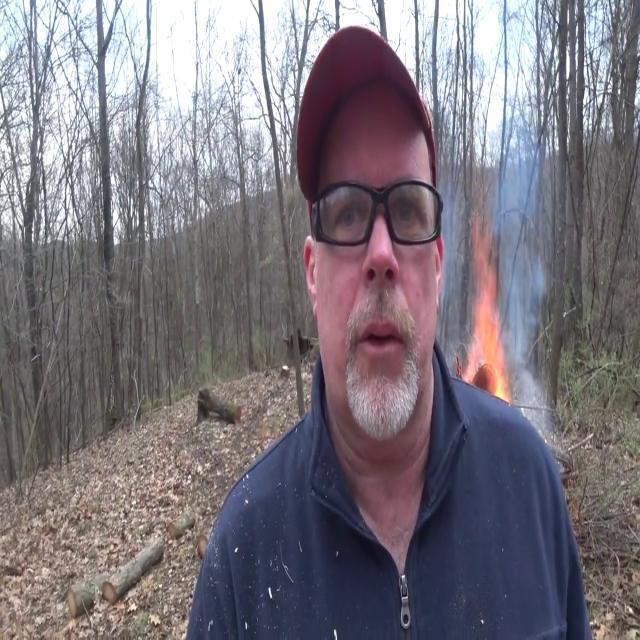Fire: (462, 266, 510, 396)
Smoke: (439, 108, 557, 386)
